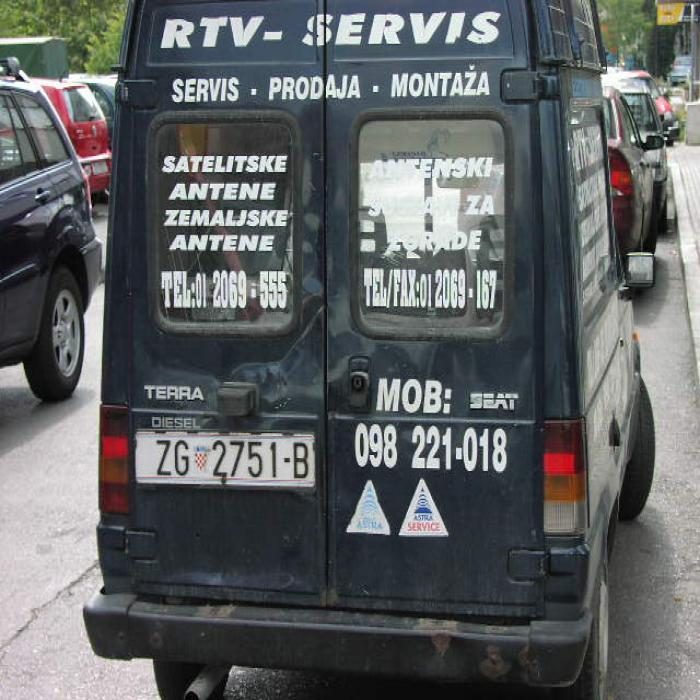number_plate: (134, 432, 311, 481)
